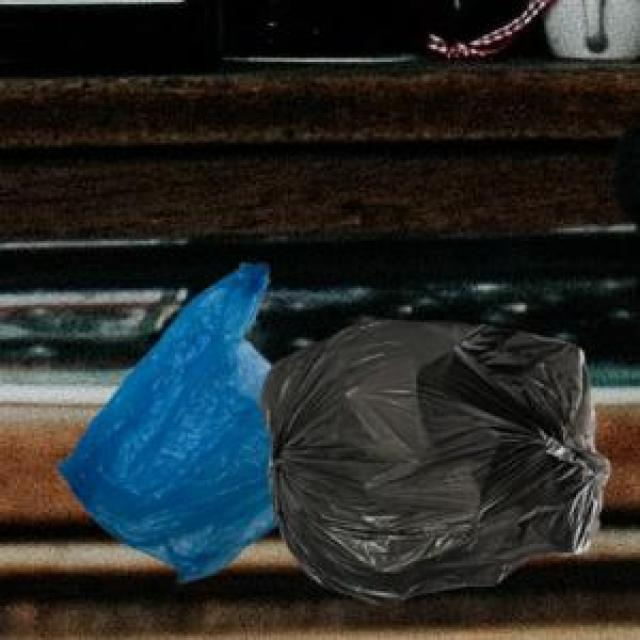miscellaneous trash: (256, 316, 606, 602)
